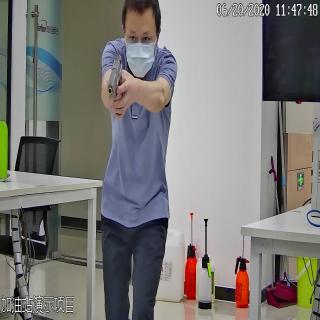gun: (106, 52, 128, 120)
